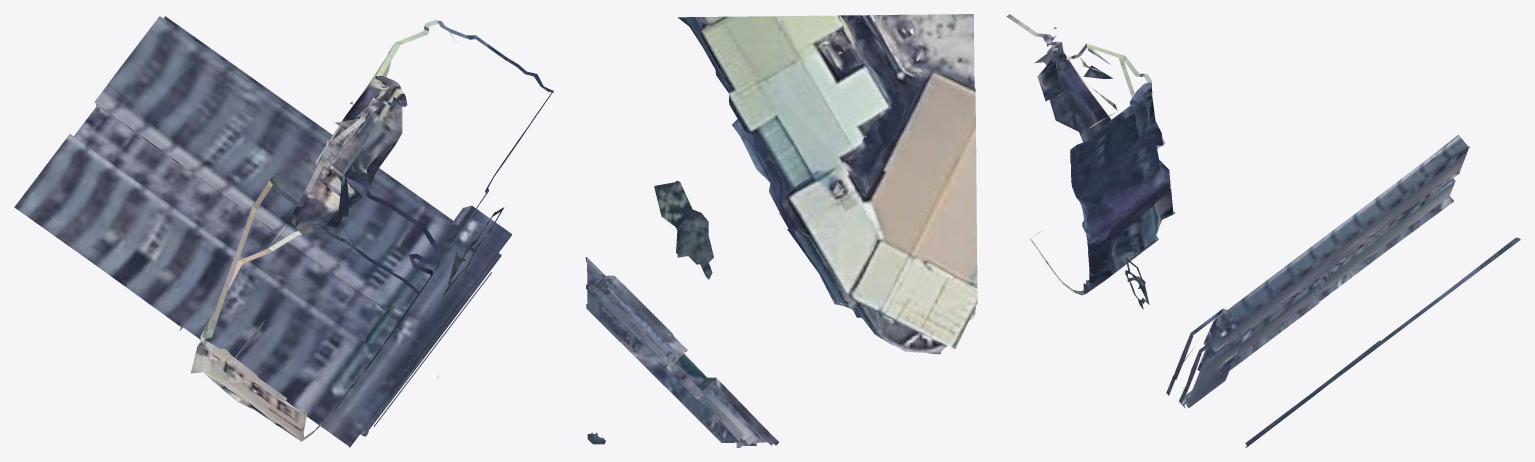
The picture shows the model from 3 angles, left to right: view 1: azimuth 30°, elevation 25°; view 2: azimuth 150°, elevation 25°; view 3: azimuth 270°, elevation 25°; orthographic projection. The views are drawn at different scales.
Bounding box in the file's own units: 36.09 × 40.19 × 53.63.
1 material, 1 textured.
